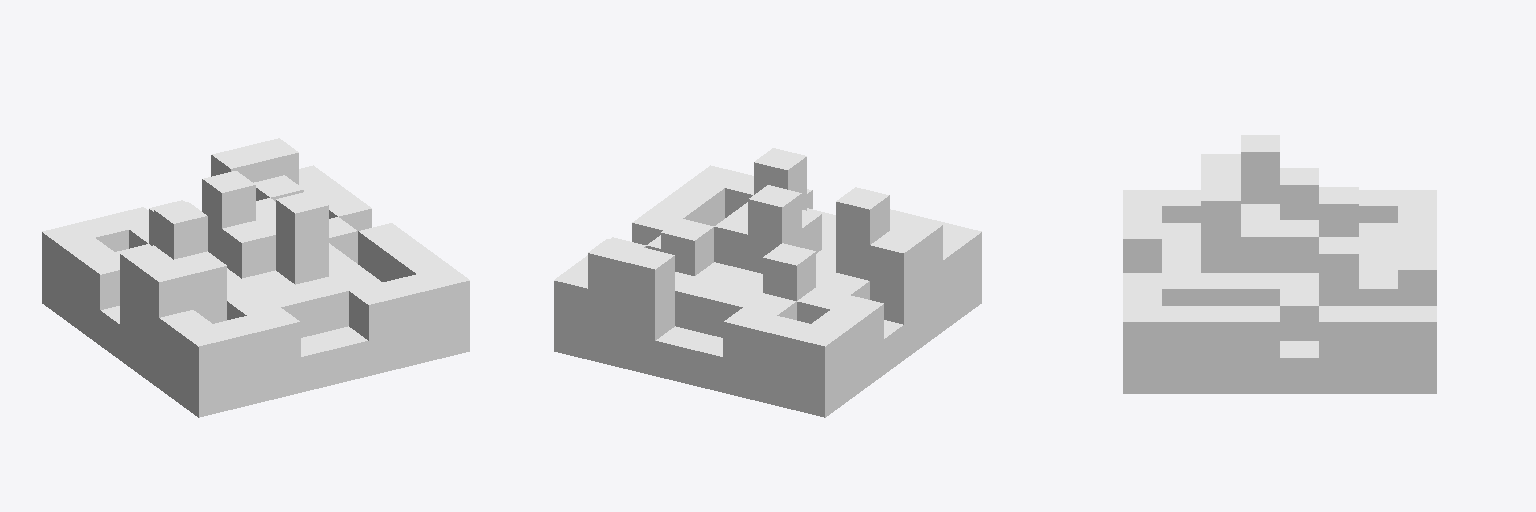
Rendered from GreenCorall3.obj.
3 views of the same model, side by side, from view 1: azimuth 30°, elevation 25°; view 2: azimuth 150°, elevation 25°; view 3: azimuth 270°, elevation 25° (orthographic).
Visible parts, largest first — view 1: object 1; view 2: object 1; view 3: object 1.
Part boxes in pixels (x1,y1,x2,y2): object 1: (42,138,469,417); object 1: (554,148,981,417); object 1: (1123,135,1436,393).
Size of the model in its own units: 0.8 by 0.4 by 0.8.